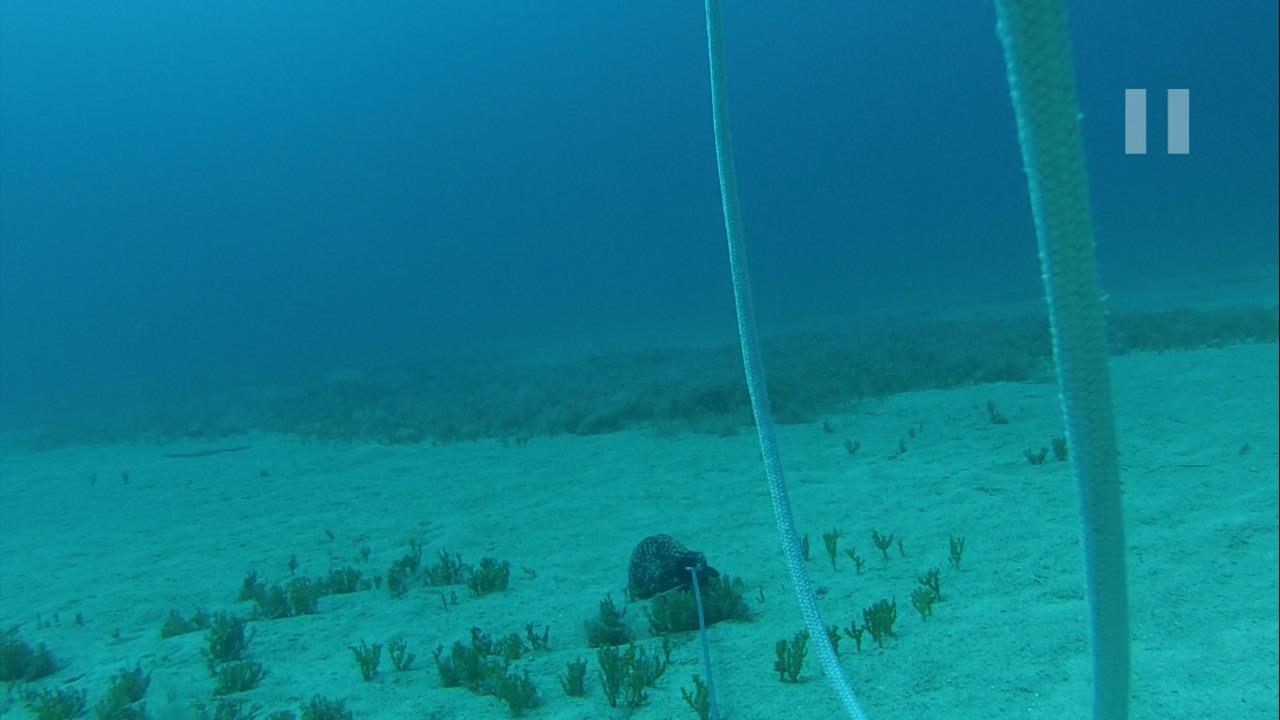dactylopterus: (150, 416, 253, 455)
